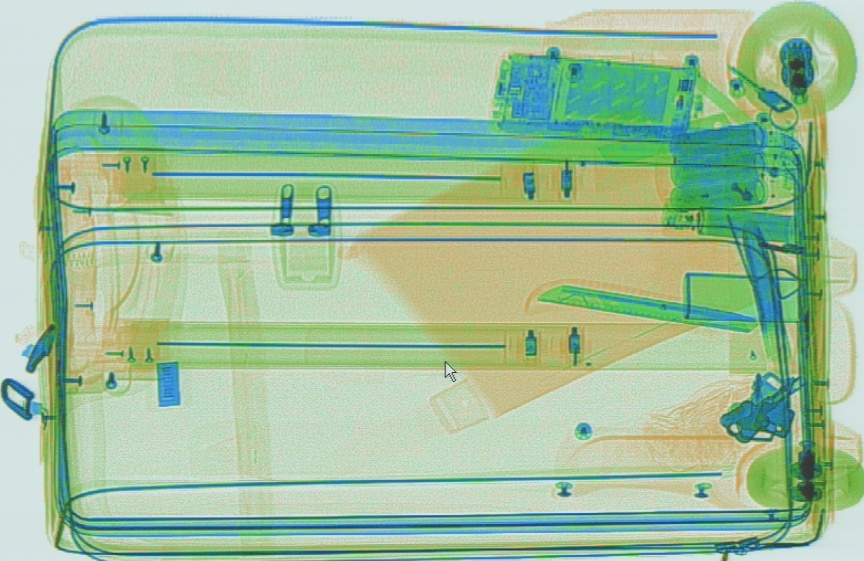knife: (522, 277, 759, 330)
powerbank: (663, 107, 800, 220)
